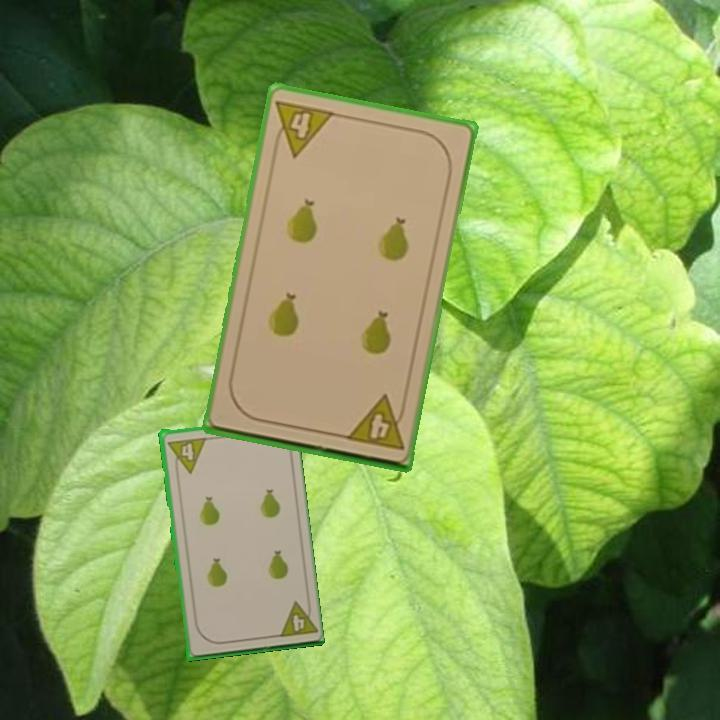4p: (268, 97, 337, 160), (342, 392, 409, 453), (274, 596, 318, 640), (163, 434, 208, 476)
